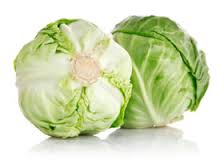cabbage: (16, 26, 132, 140), (101, 19, 211, 132)
